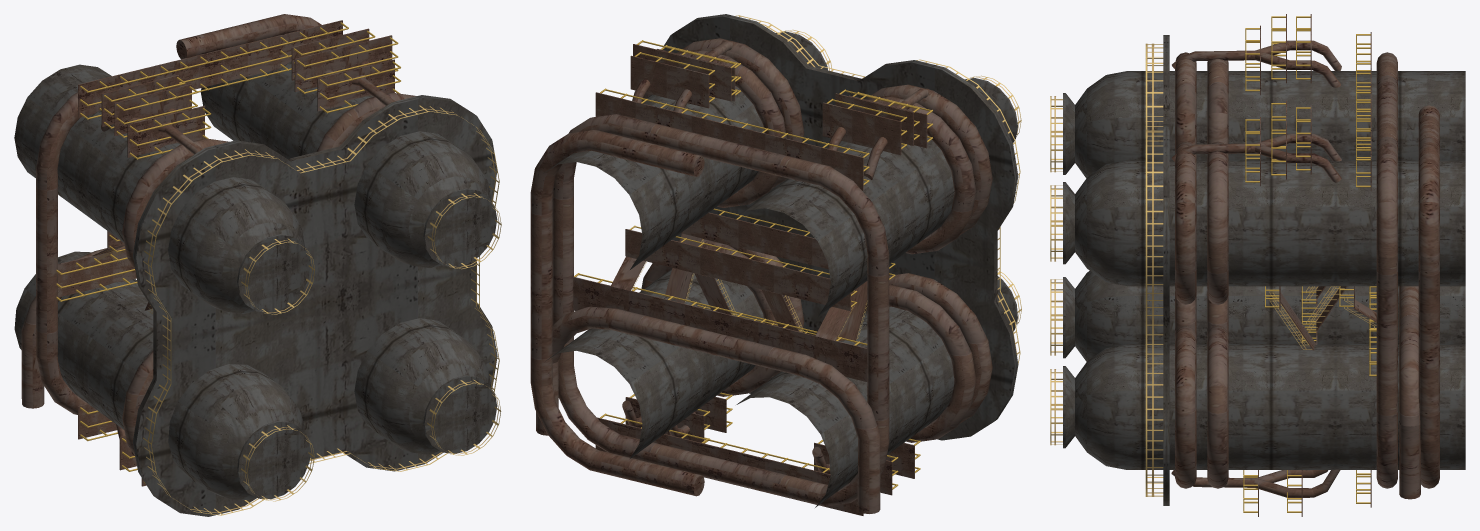
The model's file is buid11.gltf.
3 renders of one model, left to right at view 1: azimuth 30°, elevation 25°; view 2: azimuth 150°, elevation 25°; view 3: azimuth 270°, elevation 25°, orthographic. The views are drawn at different scales.
Bounding box in the file's own units: 83.37 × 82.89 × 84.3.
Materials: 4 (4 with a texture image).
